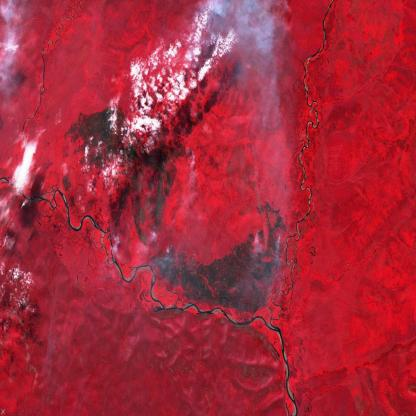fire: (148, 247, 197, 262), (183, 144, 201, 172), (248, 224, 266, 245), (111, 231, 124, 256), (146, 229, 160, 240)
